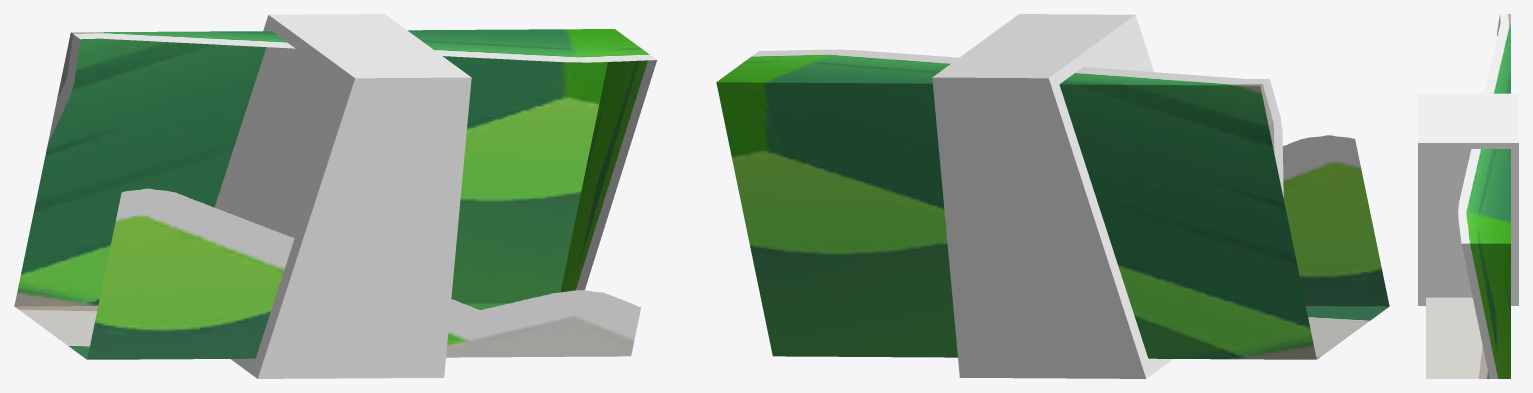
File: Collectable_Coin.fbx
3 renders of one model, left to right at view 1: azimuth 30°, elevation 25°; view 2: azimuth 150°, elevation 25°; view 3: azimuth 270°, elevation 25°, orthographic. The views are drawn at different scales.
Visible parts, largest first — view 1: MoneyStack; view 2: MoneyStack; view 3: MoneyStack.
Boxes of the visible parts, x1=… form: MoneyStack: x1=14, y1=14, x2=657, y2=378; MoneyStack: x1=716, y1=14, x2=1389, y2=378; MoneyStack: x1=1418, y1=14, x2=1518, y2=378.
Size of the model in its own units: 0.7624 by 0.4727 by 0.1909.
